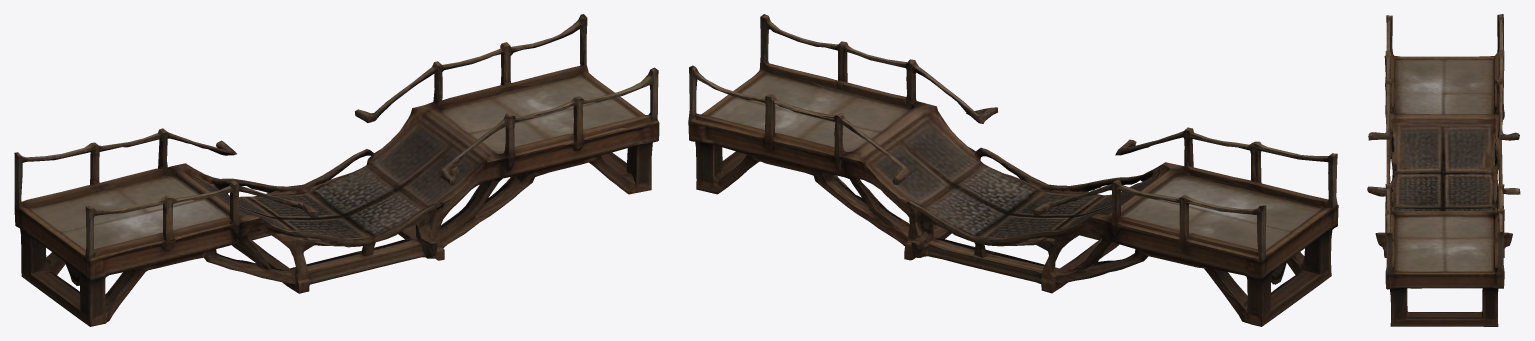
Rendered from pont-metal.glb.
3 views of the same model, side by side, from view 1: azimuth 30°, elevation 25°; view 2: azimuth 150°, elevation 25°; view 3: azimuth 270°, elevation 25° (orthographic). The views are drawn at different scales.
Visible parts, largest first — view 1: world; view 2: world; view 3: world.
Boxes of the visible parts, x1,y1,x2,y2 form: world: (14,14,659,326); world: (688,14,1338,326); world: (1367,14,1520,326).
Size of the model in its own units: 0.9983 by 0.2315 by 0.296.
Materials: 1 (1 with a texture image).
